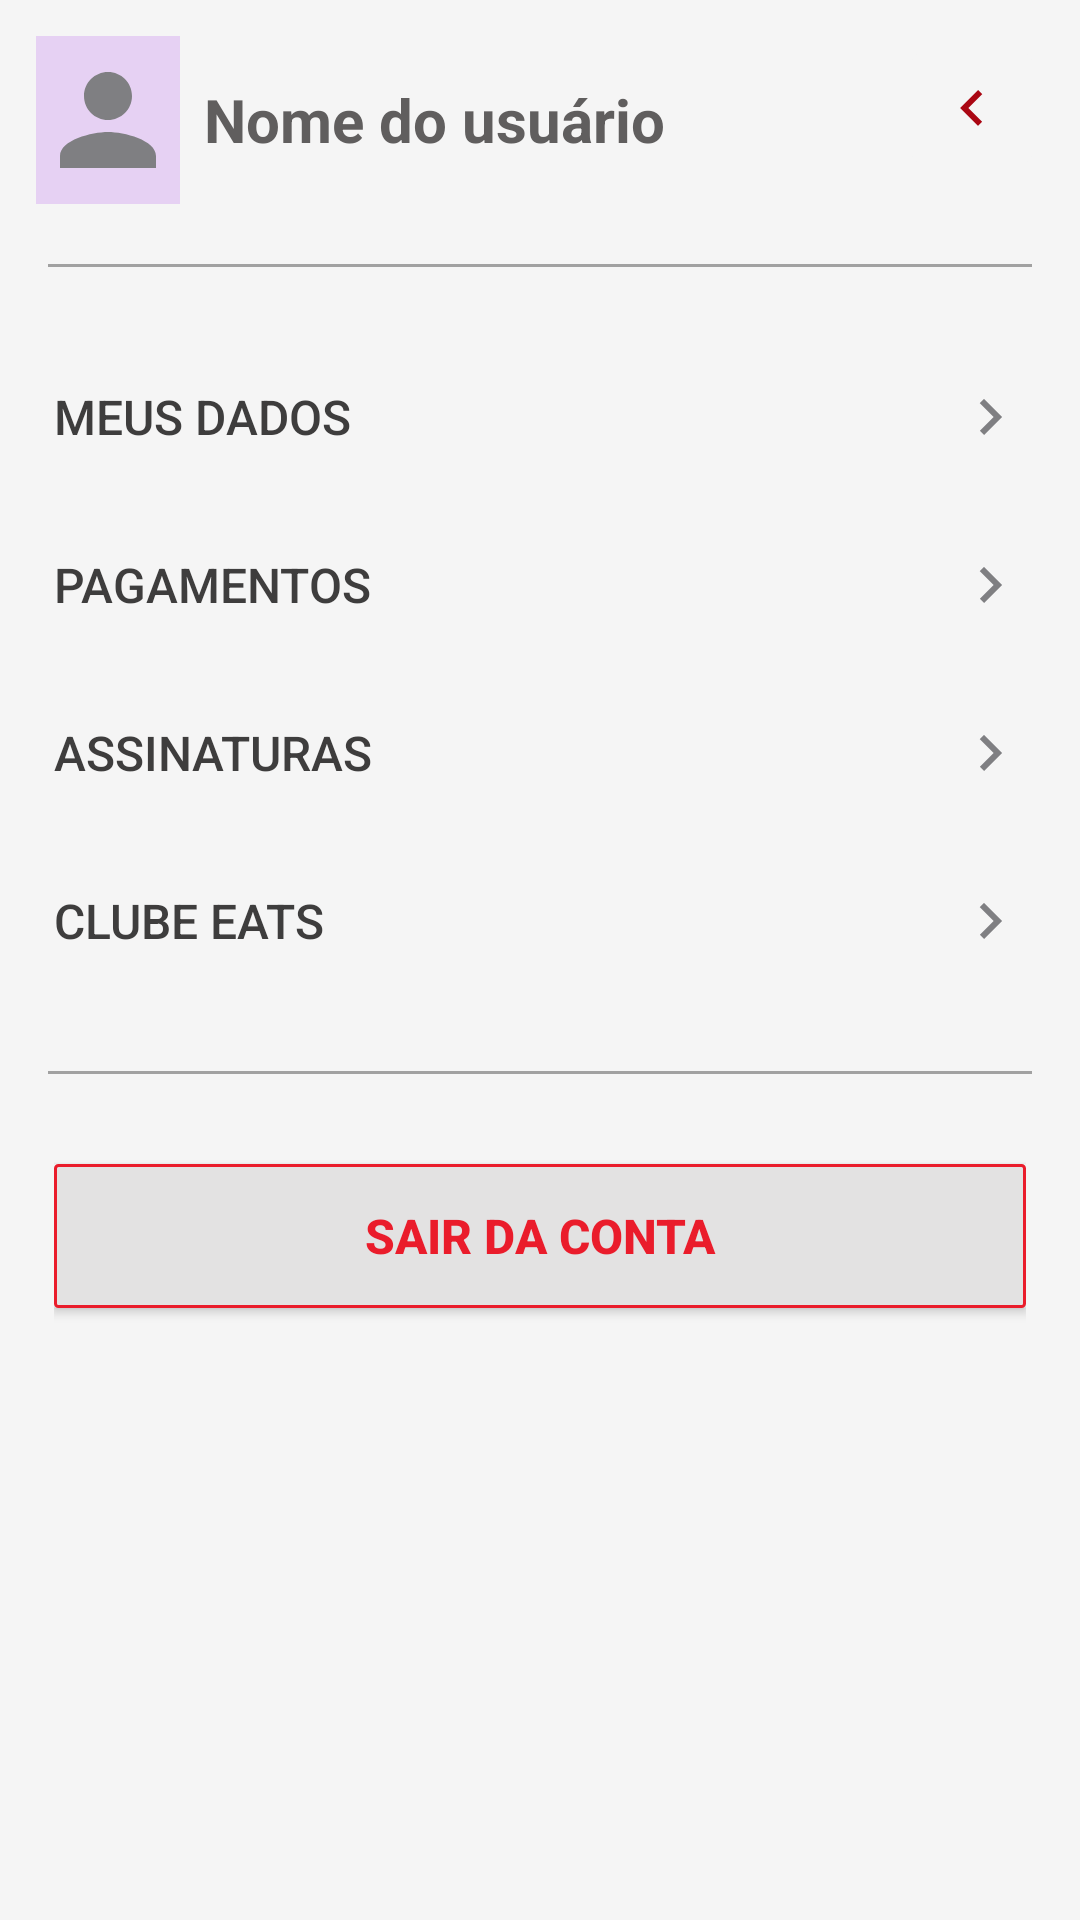

Named icons in this screenshot (1080px×1920px) and their bounding boxes, (x1, y1, x2, y2):
Foto do usuário: (36, 36, 180, 204)
Voltar: (960, 90, 982, 126)
